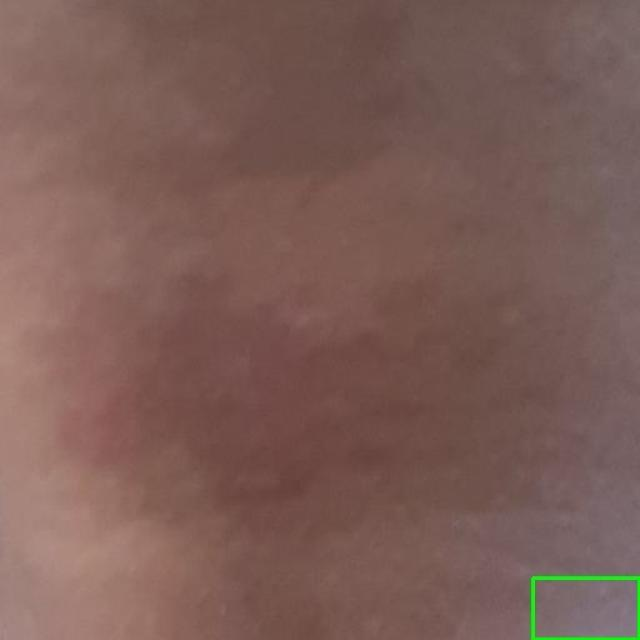Seborrheic Dermatitis: (532, 578, 639, 639)
